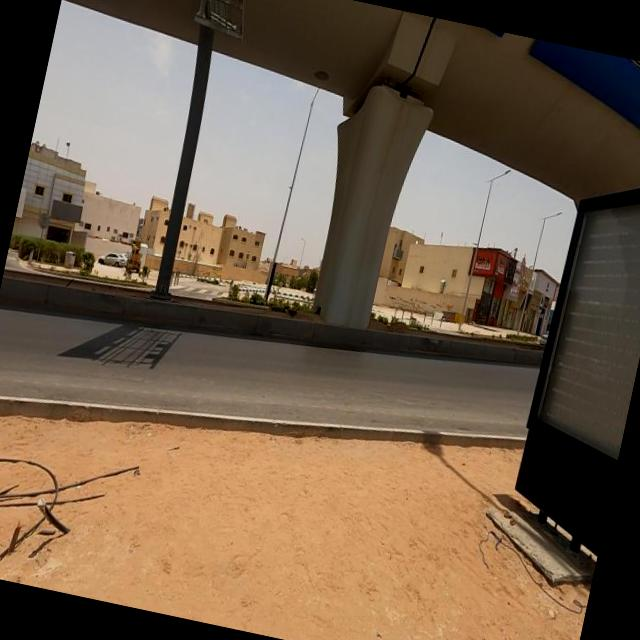debris: (0, 394, 169, 594)
